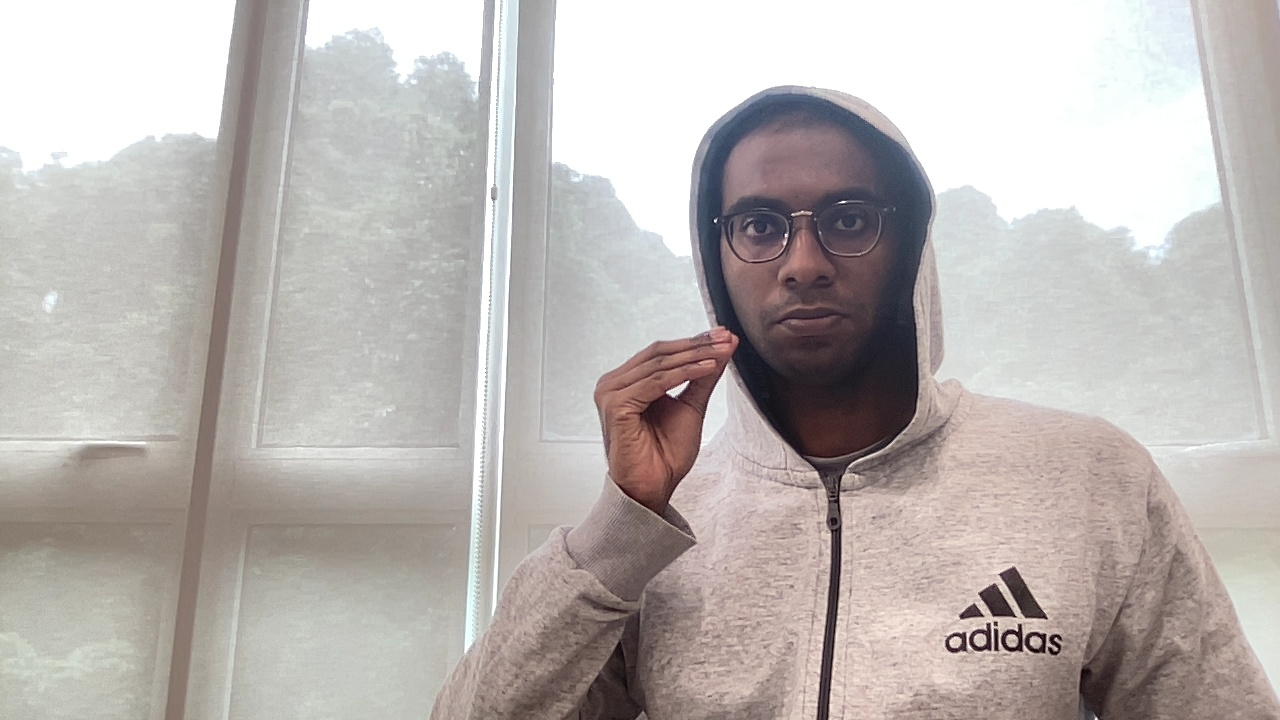eat: (590, 322, 746, 483)
